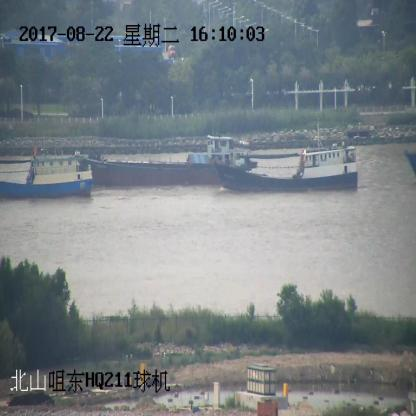Fishing Boat: (218, 143, 356, 192), (0, 150, 94, 198)
